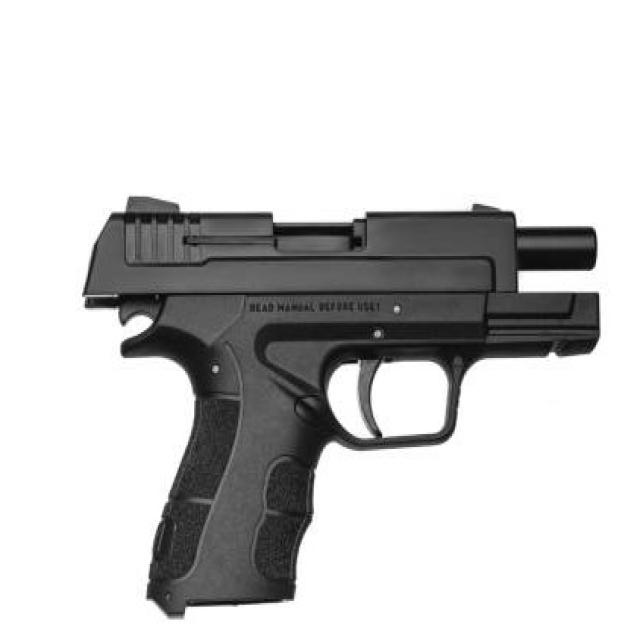pistol: (76, 192, 612, 626)
